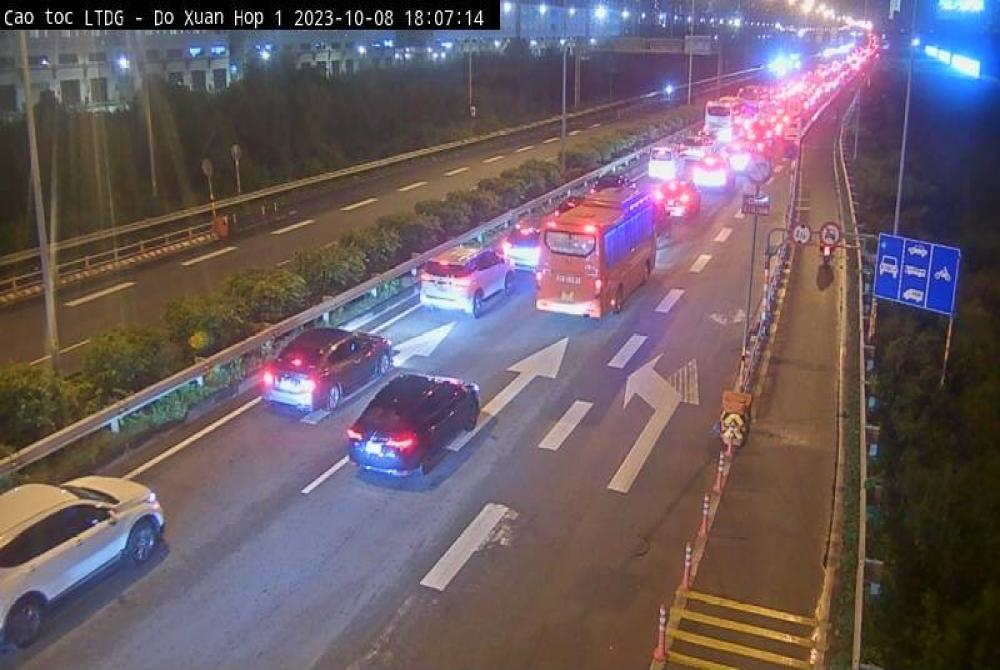bus: (536, 183, 657, 322)
car: (0, 476, 168, 652), (348, 371, 482, 488), (266, 329, 400, 426), (420, 246, 519, 318)
